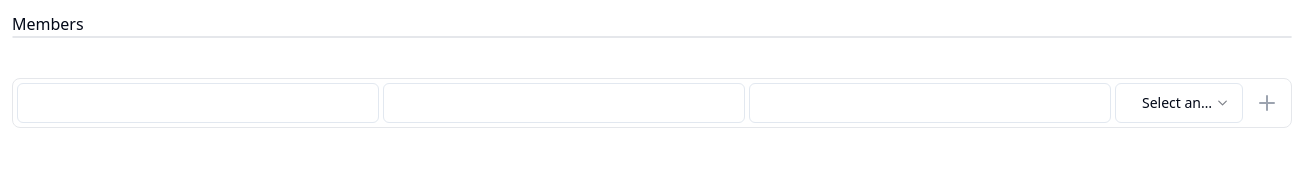
Test case: Members › should add a new member from the add-member form
This screenshot has width=1292, height=193.
Expected: the heading "Members" is shown, [12,13,84,35]
Type "New Member" into the 1st field at (198, 103), box [17,83,379,123]
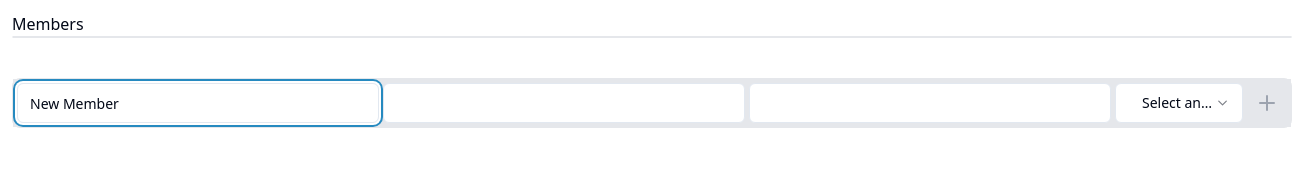
Type "Treasurer" into the 2nd field at (564, 103), box [383,83,745,123]
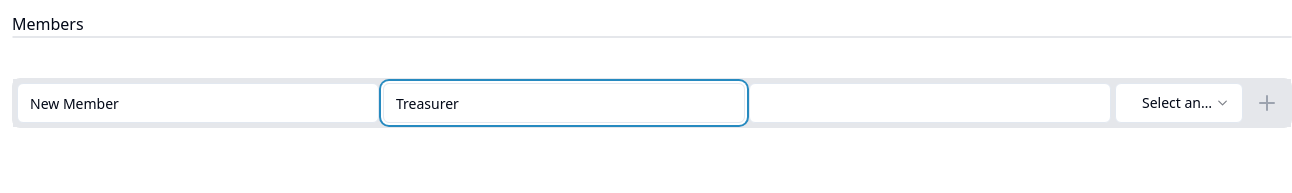
Click the button at (1267, 103), box [1247,83,1287,123]
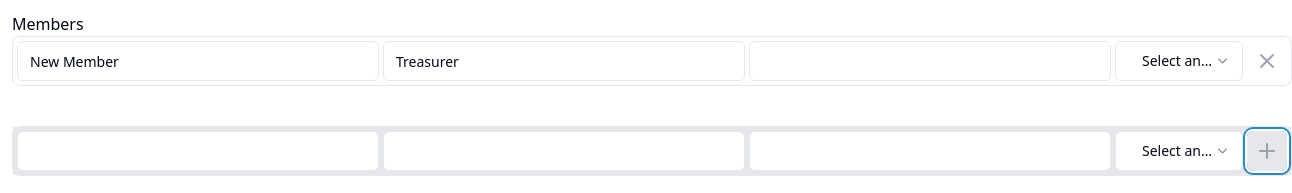
Now the 1st field showing "New Member" is shown, box [17,41,379,81]
